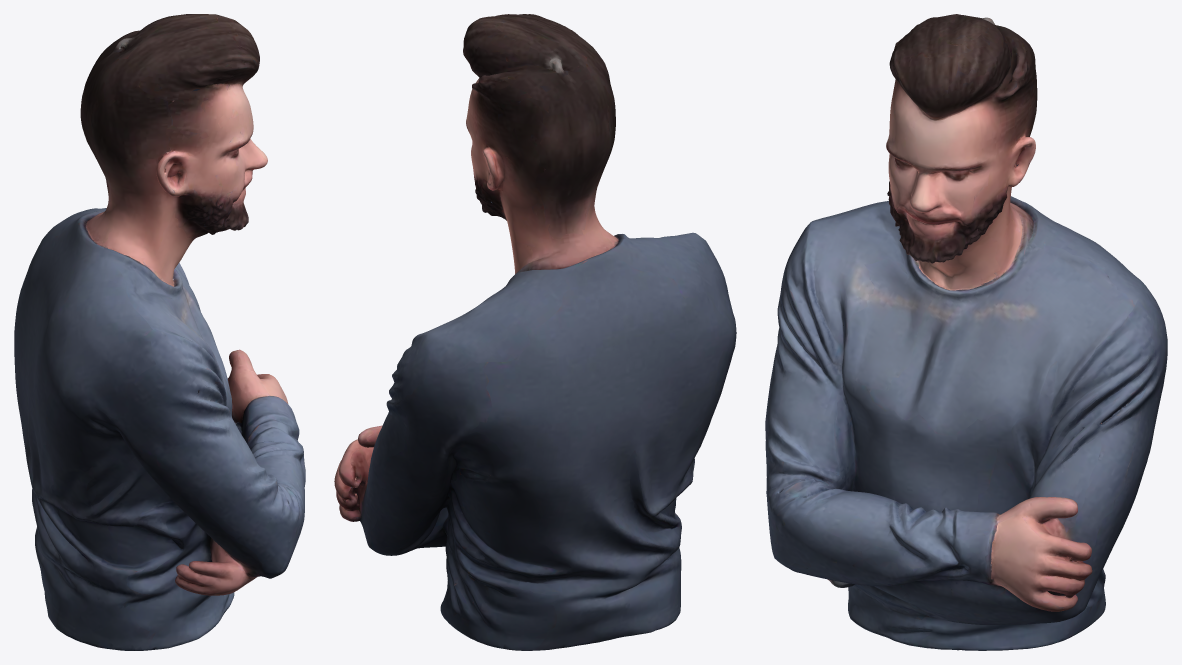
Rendered from trellis2_1779527078959_1716123816.glb.
The picture shows the model from 3 angles, left to right: view 1: azimuth 30°, elevation 25°; view 2: azimuth 150°, elevation 25°; view 3: azimuth 270°, elevation 25°; orthographic projection. The views are drawn at different scales.
Parts seen in each view (by area): view 1: world; view 2: world; view 3: world.
Boxes of the visible parts, x1,y1,x2,y2 form: world: [14, 14, 305, 650]; world: [334, 14, 736, 650]; world: [765, 14, 1167, 650].
Size of the model in its own units: 0.5631 by 1 by 0.5963.
Materials: 1 (1 with a texture image).
